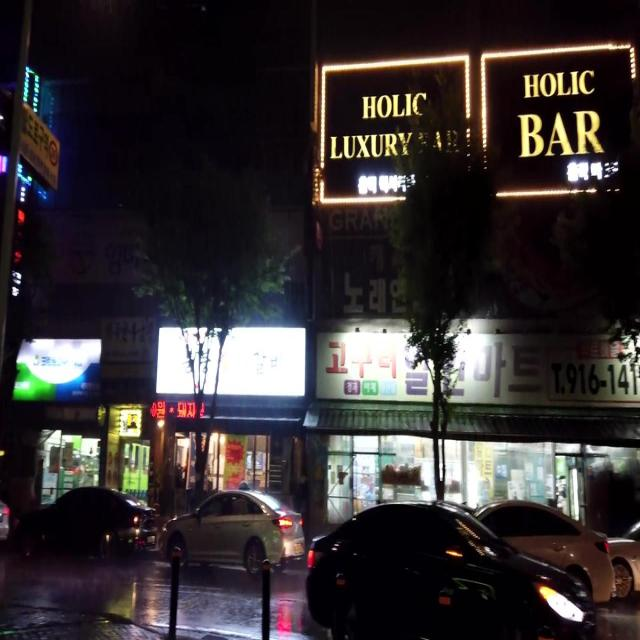Car: (304, 503, 591, 639), (162, 482, 304, 574), (18, 485, 157, 560)
